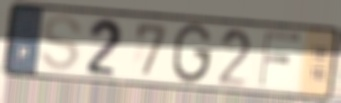2: (81, 15, 128, 81), (214, 26, 256, 88)
7: (134, 22, 168, 79)
F: (256, 30, 303, 89)
G: (169, 21, 215, 86)
S: (38, 13, 85, 74)
